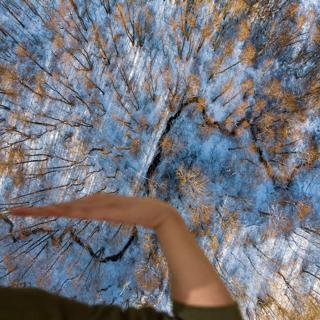WAIT: (5, 191, 174, 238)
